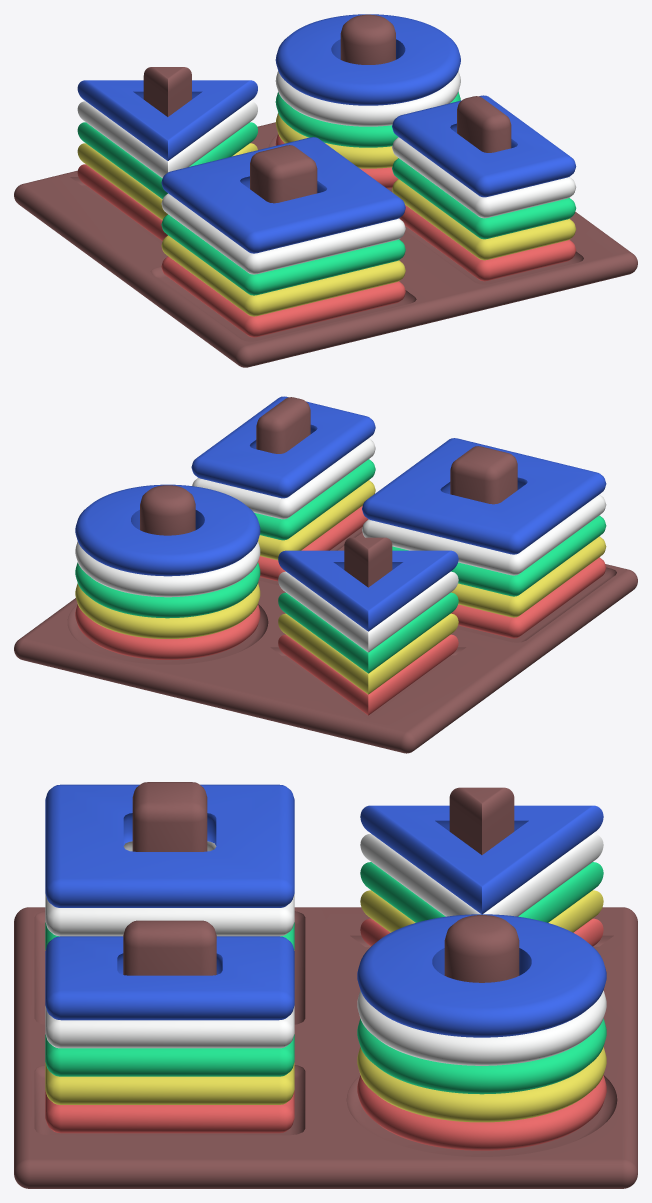
Rendered from geometric_shapes.glb.
3 renders of one model, top to bottom at view 1: azimuth 30°, elevation 25°; view 2: azimuth 150°, elevation 25°; view 3: azimuth 270°, elevation 25°, orthographic. The views are drawn at different scales.
Visible parts, largest first — view 1: Cube_11, Cube_1, Cylinder_1_2, Cube_1_2, Cylinder_1, Cube_1_9, Cube_1_3, Cube_1_7, Cube_1_5, Cube_1_6, Cube_1_4, Cube_1_8 (+15 smaller); view 2: Cube_11, Cube_1, Cylinder_1_2, Cube_1_2, Cylinder_1, Cube_1_3, Cylinder_1_4, Cylinder_1_6, Cylinder_1_10, Cylinder_1_8, Cylinder_1_9, Cylinder_1_7 (+16 smaller); view 3: Cube_11, Cube_1, Cylinder_1_2, Cube_1_2, Cylinder_1, Cube_1_4, Cube_1_6, Cube_1_8, Cube_1_10, Cylinder_1_4, Cylinder_1_8, Cylinder_1_10 (+14 smaller).
Part boxes in pixels (x1=…): Cube_11: x1=14, y1=122, x2=637, y2=367; Cube_1: x1=161, y1=137, x2=405, y2=253; Cylinder_1_2: x1=275, y1=14, x2=460, y2=105; Cube_1_2: x1=392, y1=95, x2=576, y2=197; Cylinder_1: x1=77, y1=80, x2=257, y2=160; Cube_1_9: x1=161, y1=256, x2=405, y2=337; Cube_1_3: x1=161, y1=193, x2=405, y2=274; Cube_1_7: x1=161, y1=235, x2=405, y2=316; Cube_1_5: x1=161, y1=214, x2=405, y2=295; Cube_1_6: x1=392, y1=158, x2=576, y2=239; Cube_1_4: x1=392, y1=137, x2=576, y2=218; Cube_1_8: x1=392, y1=179, x2=576, y2=260; Cube_11: x1=14, y1=532, x2=637, y2=753; Cube_1: x1=362, y1=438, x2=606, y2=554; Cylinder_1_2: x1=75, y1=484, x2=260, y2=576; Cube_1_2: x1=191, y1=396, x2=375, y2=498; Cylinder_1: x1=278, y1=550, x2=458, y2=631; Cube_1_3: x1=362, y1=494, x2=606, y2=575; Cylinder_1_4: x1=75, y1=541, x2=260, y2=597; Cylinder_1_6: x1=75, y1=562, x2=260, y2=618; Cylinder_1_10: x1=75, y1=604, x2=260, y2=659; Cylinder_1_8: x1=75, y1=583, x2=260, y2=638; Cylinder_1_9: x1=278, y1=634, x2=458, y2=715; Cylinder_1_7: x1=278, y1=613, x2=458, y2=694; Cube_11: x1=14, y1=907, x2=637, y2=1188; Cube_1: x1=45, y1=784, x2=294, y2=907; Cylinder_1_2: x1=357, y1=914, x2=606, y2=1037; Cube_1_2: x1=45, y1=936, x2=294, y2=1020; Cylinder_1: x1=360, y1=805, x2=603, y2=914; Cube_1_4: x1=45, y1=1006, x2=294, y2=1048; Cube_1_6: x1=45, y1=1034, x2=294, y2=1076; Cube_1_8: x1=45, y1=1062, x2=294, y2=1104; Cube_1_10: x1=45, y1=1090, x2=294, y2=1133; Cylinder_1_4: x1=357, y1=990, x2=606, y2=1065; Cylinder_1_8: x1=357, y1=1047, x2=606, y2=1122; Cylinder_1_10: x1=357, y1=1075, x2=606, y2=1150.
Size of the model in its own units: 1 by 0.36 by 1.
